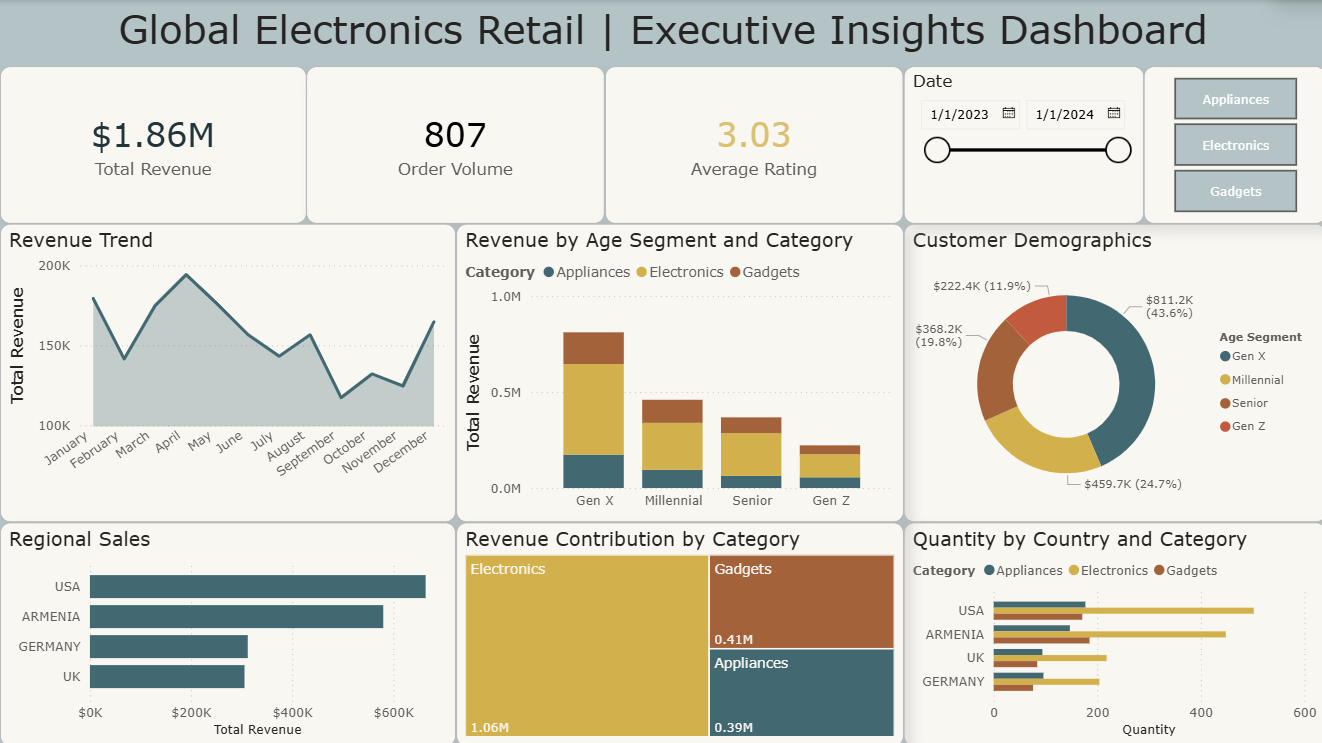

This screenshot's page, from the dashboard's own definition file:
{"tool":"powerbi","page":{"name":"Page 1","canvas":[1280,720],"ordinal":0},"visuals":[{"type":"card","fields":{"Values":["Sum(Query1.Total_Revenue)"]},"box":[0,64,296,152],"z":0},{"type":"card","fields":{"Values":["Count(Query1.Transaction_ID)"]},"box":[296,64,288,152],"z":1000},{"type":"card","fields":{"Values":["Avg(Query1.Rating)"]},"box":[584,64,288,152],"z":2000},{"type":"areaChart","title":"Revenue Trend","fields":{"Y":["Sum(Query1.Total_Revenue)"],"Category":["Query1.Clean_Date.Variation.Date Hierarchy.Year","Query1.Clean_Date.Variation.Date Hierarchy.Quarter","Query1.Clean_Date.Variation.Date Hierarchy.Month","Query1.Clean_Date.Variation.Date Hierarchy.Day"]},"box":[0,216,440,288],"z":3000},{"type":"donutChart","title":"Customer Demographics","fields":{"Category":["Query1.Age_Segment"],"Y":["Sum(Query1.Total_Revenue)"]},"box":[872,216,408,288],"z":4000},{"type":"clusteredBarChart","title":"Regional Sales","fields":{"Category":["Query1.Country"],"Y":["Sum(Query1.Total_Revenue)"]},"box":[0,504,440,216],"z":5000},{"type":"slicer","title":"Date","fields":{"Values":["Query1.Clean_Date"]},"box":[872,64,232,152],"z":6000},{"type":"textbox","box":[0,0,1280,64],"z":7000},{"type":"clusteredBarChart","fields":{"Category":["Query1.Country"],"Series":["Query1.Category"],"Y":["Sum(Query1.Quantity)"]},"box":[872,504,408,216],"z":8000},{"type":"columnChart","title":"Revenue by Age Segment and Category","fields":{"Category":["Query1.Age_Segment"],"Y":["Sum(Query1.Total_Revenue)"],"Series":["Query1.Category"]},"box":[440,216,432,288],"z":9000},{"type":"treemap","title":"Revenue Contribution by Category","fields":{"Group":["Query1.Category"],"Values":["Sum(Query1.Total_Revenue)"]},"box":[440,504,432,216],"z":10000},{"type":"slicer","fields":{"Values":["Query1.Category"]},"box":[1104,64,176,152],"z":11000}]}

Visuals, with their boxes in screenshot pixels (x1, y1, x2, y2), scaled from the page's 1280x720 canvas onto the 1322x743 screenshot:
card - Sum(Query1.Total_Revenue): (0,66,306,223)
card - Count(Query1.Transaction_ID): (306,66,603,223)
card - Avg(Query1.Rating): (603,66,901,223)
"Revenue Trend" areaChart: (0,223,454,520)
"Customer Demographics" donutChart: (901,223,1321,520)
"Regional Sales" clusteredBarChart: (0,520,454,742)
"Date" slicer: (901,66,1140,223)
textbox: (0,0,1321,66)
clusteredBarChart - Query1.Country x Query1.Category: (901,520,1321,742)
"Revenue by Age Segment and Category" columnChart: (454,223,901,520)
"Revenue Contribution by Category" treemap: (454,520,901,742)
slicer - Query1.Category: (1140,66,1321,223)
